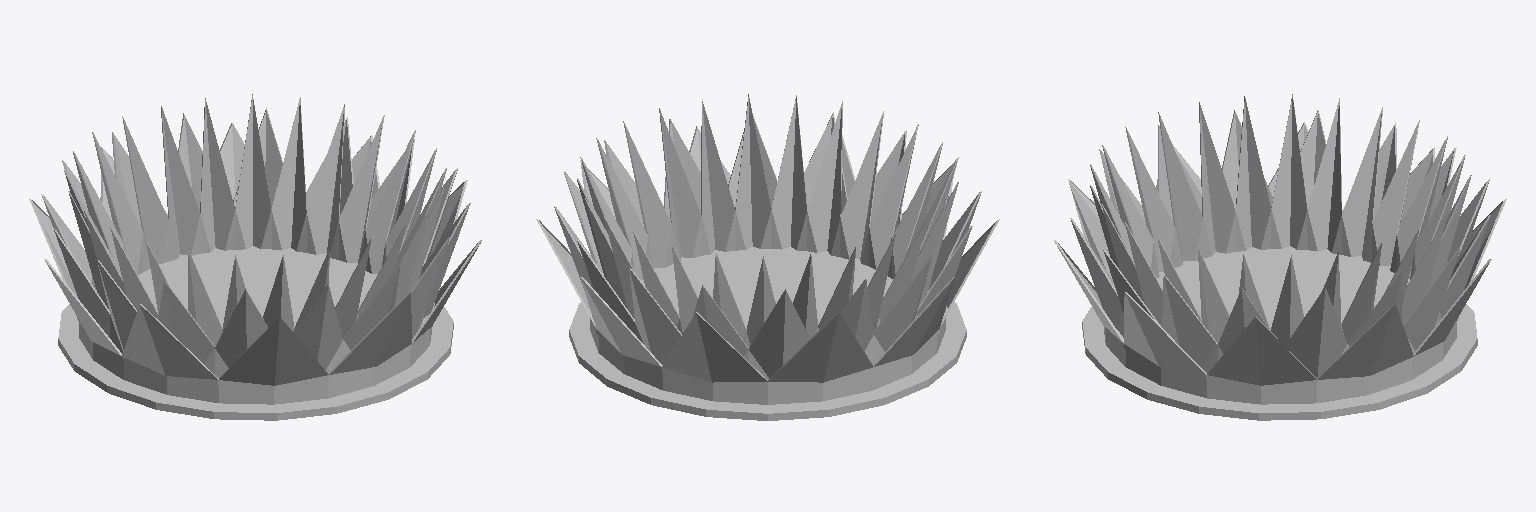
Rendered from portal_000036.obj.
3 renders of one model, left to right at view 1: azimuth 30°, elevation 25°; view 2: azimuth 150°, elevation 25°; view 3: azimuth 270°, elevation 25°, orthographic.
Parts seen in each view (by area): view 1: Cylinder.001, pCylinder1, Cylinder; view 2: Cylinder.001, pCylinder1, Cylinder; view 3: Cylinder.001, pCylinder1, Cylinder.
Part boxes in pixels (x1,y1,x2,y2): Cylinder.001: (64, 94, 446, 346); pCylinder1: (29, 123, 481, 420); Cylinder: (41, 108, 470, 377); Cylinder.001: (577, 94, 958, 347); pCylinder1: (536, 126, 999, 420); Cylinder: (554, 112, 981, 379); Cylinder.001: (1090, 94, 1471, 345); pCylinder1: (1054, 122, 1506, 420); Cylinder: (1069, 110, 1490, 377).
Bounding box in the file's own units: 7.41 × 2.9 × 7.29.